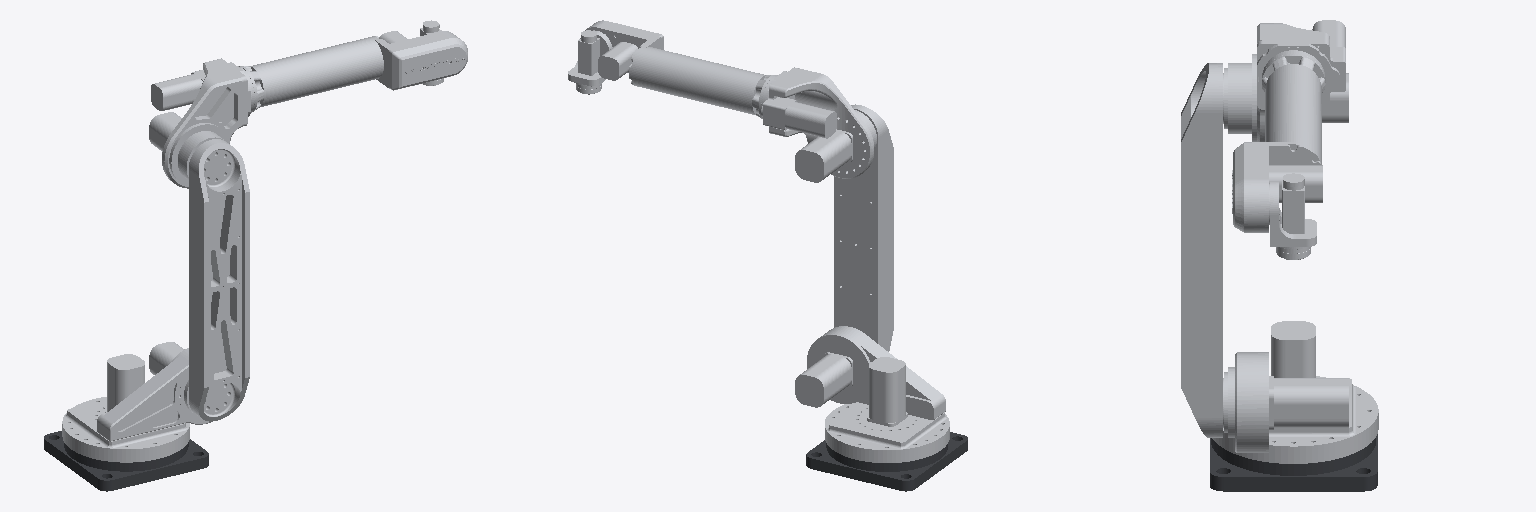
The robot description file, URDF, robot "rosie_1400":
<?xml version="1.0"?>
<!-- Rosie 1400 by Advanced Metal Research, sim kit 2026-10-09: https://advancedmetalresearch.com/assets/sim/1400/
     Units m, kg, rad. Zero pose = home (tool flange facing down). tool0 = flange face, z out of the flange.
     Mesh paths are relative to this file; launch/display.launch.py rewrites them to package:// for ROS 2.
     Visual and collision meshes are the robot's real outside surfaces: one filled solid per link, structural parts' own CAD faces,
     motors and gearboxes as plain envelopes of the same size. Inertials are the robot's real mass properties. -->
<robot name="rosie_1400">
  <material name="rosie_grey"><color rgba="0.82 0.83 0.85 1"/></material>
  <material name="rosie_dark"><color rgba="0.30 0.31 0.33 1"/></material>
  <link name="base_footprint"/>
  <joint name="base_footprint_joint" type="fixed">
    <parent link="base_footprint"/><child link="base_link"/>
    <origin xyz="0 0 0.0294" rpy="0 0 0"/>
  </joint>
  <link name="base_link">
    <inertial>
      <origin xyz="0 0 0.01125" rpy="0 0 0"/>
      <mass value="22.2562"/>
      <inertia ixx="0.14558" ixy="-0.000047" ixz="0" iyy="0.14566" iyz="0" izz="0.271109"/>
    </inertial>
    <visual>
      <origin xyz="0 0 0" rpy="0 0 0"/>
      <geometry><mesh filename="../meshes/visual/base_link.stl"/></geometry>
      <material name="rosie_dark"/>
    </visual>
    <collision>
      <origin xyz="0 0 0" rpy="0 0 0"/>
      <geometry><mesh filename="../meshes/collision/base_link_c00.stl"/></geometry>
    </collision>
    <collision>
      <origin xyz="0 0 0" rpy="0 0 0"/>
      <geometry><mesh filename="../meshes/collision/base_link_c01.stl"/></geometry>
    </collision>
    <collision>
      <origin xyz="0 0 0" rpy="0 0 0"/>
      <geometry><mesh filename="../meshes/collision/base_link_c02.stl"/></geometry>
    </collision>
    <collision>
      <origin xyz="0 0 0" rpy="0 0 0"/>
      <geometry><mesh filename="../meshes/collision/base_link_c03.stl"/></geometry>
    </collision>
    <collision>
      <origin xyz="0 0 0" rpy="0 0 0"/>
      <geometry><mesh filename="../meshes/collision/base_link_c04.stl"/></geometry>
    </collision>
    <collision>
      <origin xyz="0 0 0" rpy="0 0 0"/>
      <geometry><mesh filename="../meshes/collision/base_link_c05.stl"/></geometry>
    </collision>
    <collision>
      <origin xyz="0 0 0" rpy="0 0 0"/>
      <geometry><mesh filename="../meshes/collision/base_link_c06.stl"/></geometry>
    </collision>
    <collision>
      <origin xyz="0 0 0" rpy="0 0 0"/>
      <geometry><mesh filename="../meshes/collision/base_link_c07.stl"/></geometry>
    </collision>
    <collision>
      <origin xyz="0 0 0" rpy="0 0 0"/>
      <geometry><mesh filename="../meshes/collision/base_link_c08.stl"/></geometry>
    </collision>
    <collision>
      <origin xyz="0 0 0" rpy="0 0 0"/>
      <geometry><mesh filename="../meshes/collision/base_link_c09.stl"/></geometry>
    </collision>
  </link>
  <joint name="J1" type="revolute">
    <parent link="base_link"/><child link="link_1"/>
    <origin xyz="0 0 0" rpy="0 0 0"/>
    <axis xyz="0 0 1"/>
    <limit lower="-3.1" upper="3.1" effort="568" velocity="4.1888"/>
    <dynamics damping="5" friction="0"/>
  </joint>
  <link name="link_1">
    <inertial>
      <origin xyz="0.0779 -0.03136 0.12226" rpy="0 0 0"/>
      <mass value="20.2418"/>
      <inertia ixx="0.139651" ixy="0.026684" ixz="-0.04485" iyy="0.237445" iyz="0.0135" izz="0.266085"/>
    </inertial>
    <visual>
      <origin xyz="0 0 0" rpy="0 0 0"/>
      <geometry><mesh filename="../meshes/visual/link_1.stl"/></geometry>
      <material name="rosie_grey"/>
    </visual>
    <collision>
      <origin xyz="0 0 0" rpy="0 0 0"/>
      <geometry><mesh filename="../meshes/collision/link_1_c00.stl"/></geometry>
    </collision>
    <collision>
      <origin xyz="0 0 0" rpy="0 0 0"/>
      <geometry><mesh filename="../meshes/collision/link_1_c01.stl"/></geometry>
    </collision>
    <collision>
      <origin xyz="0 0 0" rpy="0 0 0"/>
      <geometry><mesh filename="../meshes/collision/link_1_c02.stl"/></geometry>
    </collision>
    <collision>
      <origin xyz="0 0 0" rpy="0 0 0"/>
      <geometry><mesh filename="../meshes/collision/link_1_c03.stl"/></geometry>
    </collision>
    <collision>
      <origin xyz="0 0 0" rpy="0 0 0"/>
      <geometry><mesh filename="../meshes/collision/link_1_c04.stl"/></geometry>
    </collision>
    <collision>
      <origin xyz="0 0 0" rpy="0 0 0"/>
      <geometry><mesh filename="../meshes/collision/link_1_c05.stl"/></geometry>
    </collision>
    <collision>
      <origin xyz="0 0 0" rpy="0 0 0"/>
      <geometry><mesh filename="../meshes/collision/link_1_c06.stl"/></geometry>
    </collision>
    <collision>
      <origin xyz="0 0 0" rpy="0 0 0"/>
      <geometry><mesh filename="../meshes/collision/link_1_c07.stl"/></geometry>
    </collision>
    <collision>
      <origin xyz="0 0 0" rpy="0 0 0"/>
      <geometry><mesh filename="../meshes/collision/link_1_c08.stl"/></geometry>
    </collision>
    <collision>
      <origin xyz="0 0 0" rpy="0 0 0"/>
      <geometry><mesh filename="../meshes/collision/link_1_c09.stl"/></geometry>
    </collision>
  </link>
  <joint name="J2" type="revolute">
    <parent link="link_1"/><child link="link_2"/>
    <origin xyz="0.16 -0.1255 0.15" rpy="0 0 0"/>
    <axis xyz="0 1 0"/>
    <limit lower="-1.9" upper="1.9" effort="568" velocity="4.1888"/>
    <dynamics damping="5" friction="0"/>
  </joint>
  <link name="link_2">
    <inertial>
      <origin xyz="0 -0.02752 0.3" rpy="0 0 0"/>
      <mass value="10.937"/>
      <inertia ixx="0.379359" ixy="0" ixz="0" iyy="0.392846" iyz="0" izz="0.021189"/>
    </inertial>
    <visual>
      <origin xyz="0 0 0" rpy="0 0 0"/>
      <geometry><mesh filename="../meshes/visual/link_2.stl"/></geometry>
      <material name="rosie_grey"/>
    </visual>
    <collision>
      <origin xyz="0 0 0" rpy="0 0 0"/>
      <geometry><mesh filename="../meshes/collision/link_2_c00.stl"/></geometry>
    </collision>
    <collision>
      <origin xyz="0 0 0" rpy="0 0 0"/>
      <geometry><mesh filename="../meshes/collision/link_2_c01.stl"/></geometry>
    </collision>
    <collision>
      <origin xyz="0 0 0" rpy="0 0 0"/>
      <geometry><mesh filename="../meshes/collision/link_2_c02.stl"/></geometry>
    </collision>
  </link>
  <joint name="J3" type="revolute">
    <parent link="link_2"/><child link="link_3"/>
    <origin xyz="0 0 0.6" rpy="0 0 0"/>
    <axis xyz="0 1 0"/>
    <limit lower="-2.6" upper="2.6" effort="568" velocity="4.1888"/>
    <dynamics damping="5" friction="0"/>
  </joint>
  <link name="link_3">
    <inertial>
      <origin xyz="0.03465 0.10658 0.04125" rpy="0 0 0"/>
      <mass value="14.4679"/>
      <inertia ixx="0.111576" ixy="-0.013869" ixz="-0.031813" iyy="0.108279" iyz="-0.02253" izz="0.111081"/>
    </inertial>
    <visual>
      <origin xyz="0 0 0" rpy="0 0 0"/>
      <geometry><mesh filename="../meshes/visual/link_3.stl"/></geometry>
      <material name="rosie_grey"/>
    </visual>
    <collision>
      <origin xyz="0 0 0" rpy="0 0 0"/>
      <geometry><mesh filename="../meshes/collision/link_3_c00.stl"/></geometry>
    </collision>
    <collision>
      <origin xyz="0 0 0" rpy="0 0 0"/>
      <geometry><mesh filename="../meshes/collision/link_3_c01.stl"/></geometry>
    </collision>
    <collision>
      <origin xyz="0 0 0" rpy="0 0 0"/>
      <geometry><mesh filename="../meshes/collision/link_3_c02.stl"/></geometry>
    </collision>
    <collision>
      <origin xyz="0 0 0" rpy="0 0 0"/>
      <geometry><mesh filename="../meshes/collision/link_3_c03.stl"/></geometry>
    </collision>
    <collision>
      <origin xyz="0 0 0" rpy="0 0 0"/>
      <geometry><mesh filename="../meshes/collision/link_3_c04.stl"/></geometry>
    </collision>
    <collision>
      <origin xyz="0 0 0" rpy="0 0 0"/>
      <geometry><mesh filename="../meshes/collision/link_3_c05.stl"/></geometry>
    </collision>
    <collision>
      <origin xyz="0 0 0" rpy="0 0 0"/>
      <geometry><mesh filename="../meshes/collision/link_3_c06.stl"/></geometry>
    </collision>
    <collision>
      <origin xyz="0 0 0" rpy="0 0 0"/>
      <geometry><mesh filename="../meshes/collision/link_3_c07.stl"/></geometry>
    </collision>
    <collision>
      <origin xyz="0 0 0" rpy="0 0 0"/>
      <geometry><mesh filename="../meshes/collision/link_3_c08.stl"/></geometry>
    </collision>
    <collision>
      <origin xyz="0 0 0" rpy="0 0 0"/>
      <geometry><mesh filename="../meshes/collision/link_3_c09.stl"/></geometry>
    </collision>
  </link>
  <joint name="J4" type="revolute">
    <parent link="link_3"/><child link="link_4"/>
    <origin xyz="0.159 0.1255 0.105" rpy="0 0 0"/>
    <axis xyz="1 0 0"/>
    <limit lower="-3.1" upper="3.1" effort="204" velocity="5.8643"/>
    <dynamics damping="1" friction="0"/>
  </joint>
  <link name="link_4">
    <inertial>
      <origin xyz="0.33163 -0.02277 0.00003" rpy="0 0 0"/>
      <mass value="7.9144"/>
      <inertia ixx="0.018751" ixy="0.026018" ixz="-0.000021" iyy="0.220768" iyz="-0.00001" izz="0.22737"/>
    </inertial>
    <visual>
      <origin xyz="0 0 0" rpy="0 0 0"/>
      <geometry><mesh filename="../meshes/visual/link_4.stl"/></geometry>
      <material name="rosie_grey"/>
    </visual>
    <collision>
      <origin xyz="0 0 0" rpy="0 0 0"/>
      <geometry><mesh filename="../meshes/collision/link_4_c00.stl"/></geometry>
    </collision>
    <collision>
      <origin xyz="0 0 0" rpy="0 0 0"/>
      <geometry><mesh filename="../meshes/collision/link_4_c01.stl"/></geometry>
    </collision>
    <collision>
      <origin xyz="0 0 0" rpy="0 0 0"/>
      <geometry><mesh filename="../meshes/collision/link_4_c02.stl"/></geometry>
    </collision>
  </link>
  <joint name="J5" type="revolute">
    <parent link="link_4"/><child link="link_5"/>
    <origin xyz="0.5147 0 0" rpy="0 0 0"/>
    <axis xyz="0 1 0"/>
    <limit lower="-2.2" upper="2.2" effort="82" velocity="6.2832"/>
    <dynamics damping="1" friction="0"/>
  </joint>
  <link name="link_5">
    <inertial>
      <origin xyz="0.00114 -0.0078 -0.02125" rpy="0 0 0"/>
      <mass value="0.8107"/>
      <inertia ixx="0.001289" ixy="-0.000013" ixz="-0.00003" iyy="0.001311" iyz="0.000029" izz="0.000732"/>
    </inertial>
    <visual>
      <origin xyz="0 0 0" rpy="0 0 0"/>
      <geometry><mesh filename="../meshes/visual/link_5.stl"/></geometry>
      <material name="rosie_grey"/>
    </visual>
    <collision>
      <origin xyz="0 0 0" rpy="0 0 0"/>
      <geometry><mesh filename="../meshes/collision/link_5_c00.stl"/></geometry>
    </collision>
    <collision>
      <origin xyz="0 0 0" rpy="0 0 0"/>
      <geometry><mesh filename="../meshes/collision/link_5_c01.stl"/></geometry>
    </collision>
    <collision>
      <origin xyz="0 0 0" rpy="0 0 0"/>
      <geometry><mesh filename="../meshes/collision/link_5_c02.stl"/></geometry>
    </collision>
    <collision>
      <origin xyz="0 0 0" rpy="0 0 0"/>
      <geometry><mesh filename="../meshes/collision/link_5_c03.stl"/></geometry>
    </collision>
    <collision>
      <origin xyz="0 0 0" rpy="0 0 0"/>
      <geometry><mesh filename="../meshes/collision/link_5_c04.stl"/></geometry>
    </collision>
    <collision>
      <origin xyz="0 0 0" rpy="0 0 0"/>
      <geometry><mesh filename="../meshes/collision/link_5_c05.stl"/></geometry>
    </collision>
    <collision>
      <origin xyz="0 0 0" rpy="0 0 0"/>
      <geometry><mesh filename="../meshes/collision/link_5_c06.stl"/></geometry>
    </collision>
    <collision>
      <origin xyz="0 0 0" rpy="0 0 0"/>
      <geometry><mesh filename="../meshes/collision/link_5_c07.stl"/></geometry>
    </collision>
    <collision>
      <origin xyz="0 0 0" rpy="0 0 0"/>
      <geometry><mesh filename="../meshes/collision/link_5_c08.stl"/></geometry>
    </collision>
    <collision>
      <origin xyz="0 0 0" rpy="0 0 0"/>
      <geometry><mesh filename="../meshes/collision/link_5_c09.stl"/></geometry>
    </collision>
  </link>
  <joint name="J6" type="revolute">
    <parent link="link_5"/><child link="link_6"/>
    <origin xyz="0 0 -0.0993" rpy="0 0 0"/>
    <axis xyz="0 0 1"/>
    <limit lower="-3.1" upper="3.1" effort="54" velocity="6.2832"/>
    <dynamics damping="0.5" friction="0"/>
  </joint>
  <link name="link_6">
    <inertial>
      <origin xyz="0 0 0.02009" rpy="0 0 0"/>
      <mass value="0.65"/>
      <inertia ixx="0.000327" ixy="0" ixz="0" iyy="0.000327" iyz="0" izz="0.000476"/>
    </inertial>
    <visual>
      <origin xyz="0 0 0" rpy="0 0 0"/>
      <geometry><mesh filename="../meshes/visual/link_6.stl"/></geometry>
      <material name="rosie_grey"/>
    </visual>
    <collision>
      <origin xyz="0 0 0" rpy="0 0 0"/>
      <geometry><mesh filename="../meshes/collision/link_6_c00.stl"/></geometry>
    </collision>
    <collision>
      <origin xyz="0 0 0" rpy="0 0 0"/>
      <geometry><mesh filename="../meshes/collision/link_6_c01.stl"/></geometry>
    </collision>
    <collision>
      <origin xyz="0 0 0" rpy="0 0 0"/>
      <geometry><mesh filename="../meshes/collision/link_6_c02.stl"/></geometry>
    </collision>
    <collision>
      <origin xyz="0 0 0" rpy="0 0 0"/>
      <geometry><mesh filename="../meshes/collision/link_6_c03.stl"/></geometry>
    </collision>
    <collision>
      <origin xyz="0 0 0" rpy="0 0 0"/>
      <geometry><mesh filename="../meshes/collision/link_6_c04.stl"/></geometry>
    </collision>
    <collision>
      <origin xyz="0 0 0" rpy="0 0 0"/>
      <geometry><mesh filename="../meshes/collision/link_6_c05.stl"/></geometry>
    </collision>
    <collision>
      <origin xyz="0 0 0" rpy="0 0 0"/>
      <geometry><mesh filename="../meshes/collision/link_6_c06.stl"/></geometry>
    </collision>
    <collision>
      <origin xyz="0 0 0" rpy="0 0 0"/>
      <geometry><mesh filename="../meshes/collision/link_6_c07.stl"/></geometry>
    </collision>
    <collision>
      <origin xyz="0 0 0" rpy="0 0 0"/>
      <geometry><mesh filename="../meshes/collision/link_6_c08.stl"/></geometry>
    </collision>
    <collision>
      <origin xyz="0 0 0" rpy="0 0 0"/>
      <geometry><mesh filename="../meshes/collision/link_6_c09.stl"/></geometry>
    </collision>
  </link>
  <joint name="tool0_joint" type="fixed">
    <parent link="link_6"/><child link="tool0"/>
    <origin xyz="0 0 0" rpy="3.141592653589793 0 0"/>
  </joint>
  <link name="tool0">
    <inertial><origin xyz="0 0 0" rpy="0 0 0"/><mass value="1e-06"/><inertia ixx="1e-12" ixy="0" ixz="0" iyy="1e-12" iyz="0" izz="1e-12"/></inertial>
  </link>
  <transmission name="J1_transmission">
    <type>transmission_interface/SimpleTransmission</type>
    <joint name="J1"><hardwareInterface>hardware_interface/PositionJointInterface</hardwareInterface></joint>
    <actuator name="J1_motor"><mechanicalReduction>1</mechanicalReduction></actuator>
  </transmission>
  <transmission name="J2_transmission">
    <type>transmission_interface/SimpleTransmission</type>
    <joint name="J2"><hardwareInterface>hardware_interface/PositionJointInterface</hardwareInterface></joint>
    <actuator name="J2_motor"><mechanicalReduction>1</mechanicalReduction></actuator>
  </transmission>
  <transmission name="J3_transmission">
    <type>transmission_interface/SimpleTransmission</type>
    <joint name="J3"><hardwareInterface>hardware_interface/PositionJointInterface</hardwareInterface></joint>
    <actuator name="J3_motor"><mechanicalReduction>1</mechanicalReduction></actuator>
  </transmission>
  <transmission name="J4_transmission">
    <type>transmission_interface/SimpleTransmission</type>
    <joint name="J4"><hardwareInterface>hardware_interface/PositionJointInterface</hardwareInterface></joint>
    <actuator name="J4_motor"><mechanicalReduction>1</mechanicalReduction></actuator>
  </transmission>
  <transmission name="J5_transmission">
    <type>transmission_interface/SimpleTransmission</type>
    <joint name="J5"><hardwareInterface>hardware_interface/PositionJointInterface</hardwareInterface></joint>
    <actuator name="J5_motor"><mechanicalReduction>1</mechanicalReduction></actuator>
  </transmission>
  <transmission name="J6_transmission">
    <type>transmission_interface/SimpleTransmission</type>
    <joint name="J6"><hardwareInterface>hardware_interface/PositionJointInterface</hardwareInterface></joint>
    <actuator name="J6_motor"><mechanicalReduction>1</mechanicalReduction></actuator>
  </transmission>
</robot>

--- What the picture shows (computed from the rendered views, not written in the file) ---
The picture shows the robot from 3 angles, left to right: view 1: azimuth 30°, elevation 25°; view 2: azimuth 150°, elevation 25°; view 3: azimuth 270°, elevation 25°; orthographic projection.
Model rosie_1400 with 9 links and 8 joints (6 revolute, 2 fixed), rooted at base_footprint, posed all joints at 0.
Links seen in each view (by area): view 1: link_2, link_1, link_4, link_3, base_link; view 2: link_1, link_2, link_3, link_4, base_link, link_5; view 3: link_1, link_2, link_4, link_3, base_link, link_5.
Link boxes in pixels (box(x1,y1,x2,y2)): link_2: box(189, 139, 249, 421); link_1: box(62, 342, 210, 462); link_4: box(239, 31, 467, 112); link_3: box(149, 58, 254, 188); base_link: box(44, 431, 208, 491); link_1: box(795, 326, 949, 462); link_2: box(834, 104, 893, 351); link_3: box(761, 67, 876, 182); link_4: box(580, 20, 775, 118); base_link: box(806, 432, 967, 491); link_5: box(568, 30, 612, 85); link_1: box(1212, 321, 1378, 463); link_2: box(1181, 63, 1222, 437); link_4: box(1232, 54, 1325, 232); link_3: box(1223, 20, 1348, 141); base_link: box(1210, 434, 1377, 491); link_5: box(1270, 173, 1316, 246).
Bounding box of the posed robot: 1.04 × 0.3522 × 0.9494 m (x, y, z).
Meshes: 7 distinct files referenced, 7 mesh visuals loaded (7 binary STL).
